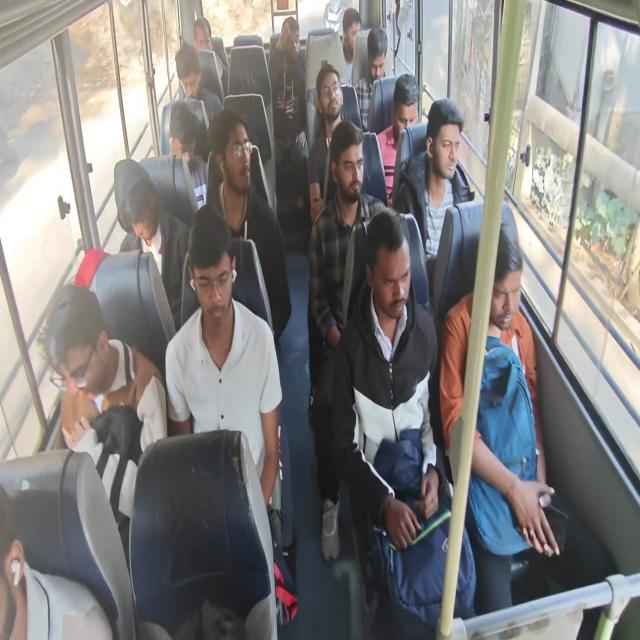person: (330, 207, 477, 638), (439, 215, 559, 612), (40, 282, 167, 573), (165, 204, 282, 511), (307, 120, 388, 562), (205, 108, 292, 343), (0, 483, 114, 639), (395, 97, 467, 277), (123, 178, 194, 330), (307, 63, 345, 224), (268, 16, 308, 165), (376, 73, 420, 201), (167, 100, 208, 208), (175, 42, 222, 126), (354, 26, 388, 130), (192, 16, 228, 100), (168, 99, 199, 160), (340, 7, 361, 85)
